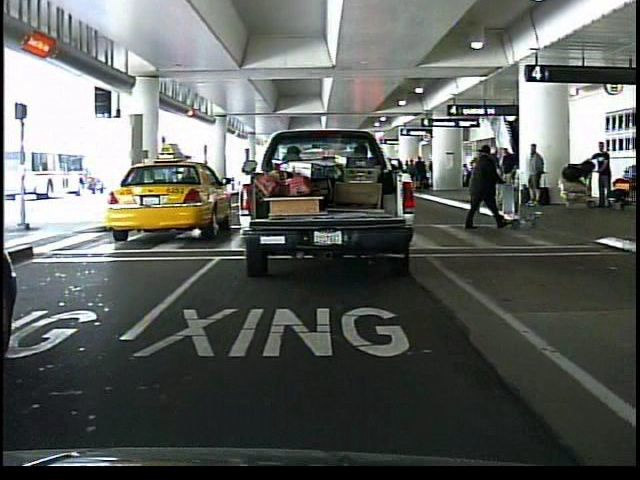person: (465, 144, 506, 235), (592, 139, 615, 210), (480, 146, 501, 221)
